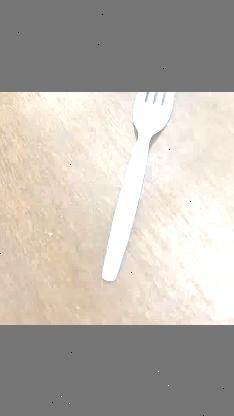Others: (101, 92, 173, 280)
